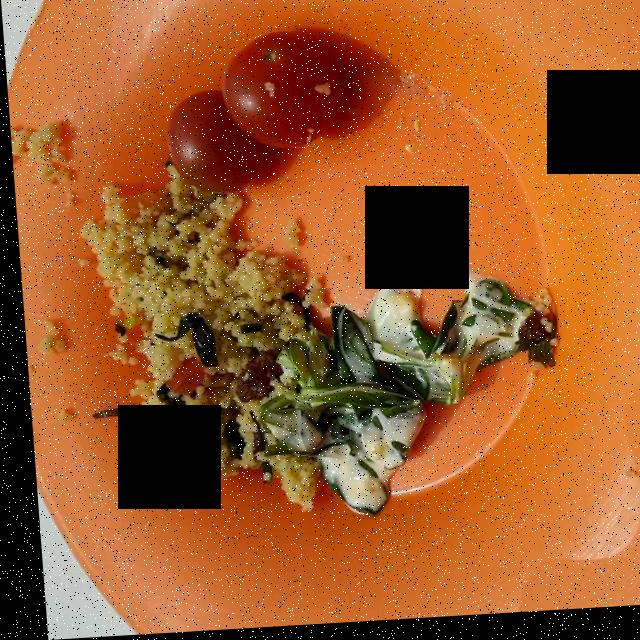salad-dressing: (262, 273, 551, 534)
salad-lambs-ear: (252, 250, 596, 535)
taboule-prepared-with-couscous: (78, 184, 314, 504)
tomato-raw: (168, 36, 378, 194)
